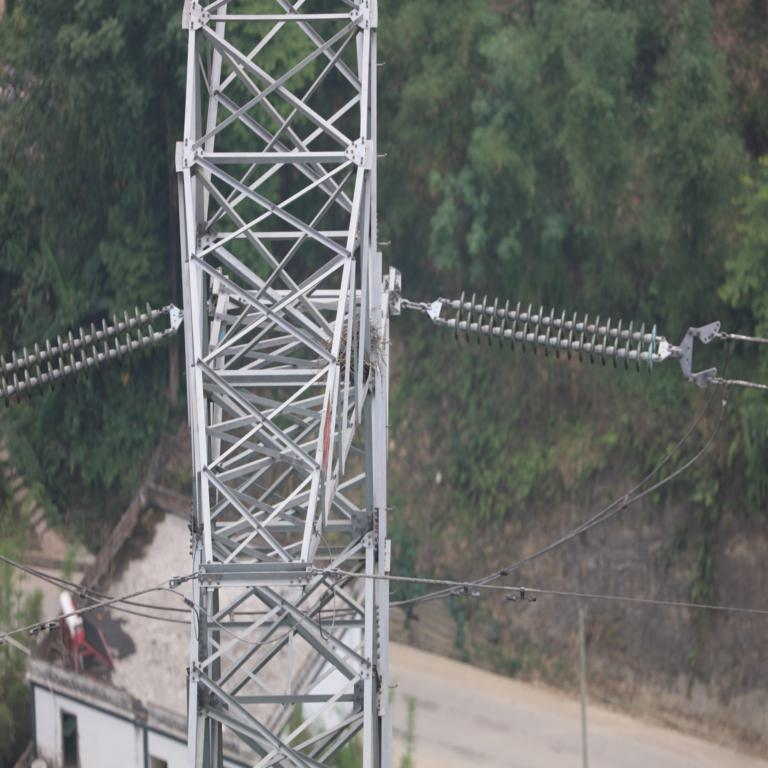nest: (328, 317, 379, 384)
